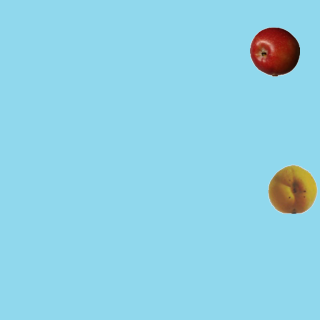Apple Braeburn: (249, 26, 299, 76)
Peach 2: (267, 163, 317, 213)
